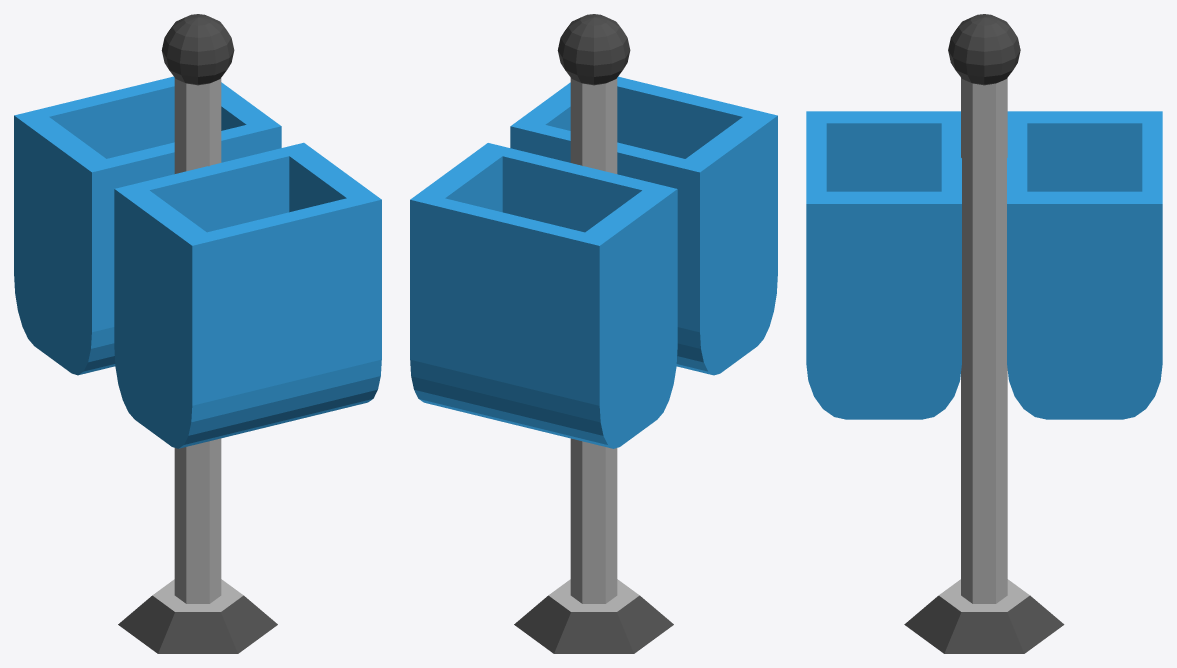
File: lixeira.fbx
3 views of the same model, side by side, from view 1: azimuth 30°, elevation 25°; view 2: azimuth 150°, elevation 25°; view 3: azimuth 270°, elevation 25° (orthographic).
Visible parts, largest first — view 1: Cylinder.035; view 2: Cylinder.035; view 3: Cylinder.035.
Part boxes in pixels (box(x1,y1,x2,y2)): Cylinder.035: box(14, 14, 381, 653); Cylinder.035: box(410, 14, 777, 653); Cylinder.035: box(806, 14, 1162, 653).
Size of the model in its own units: 42.33 by 130 by 68.91.
